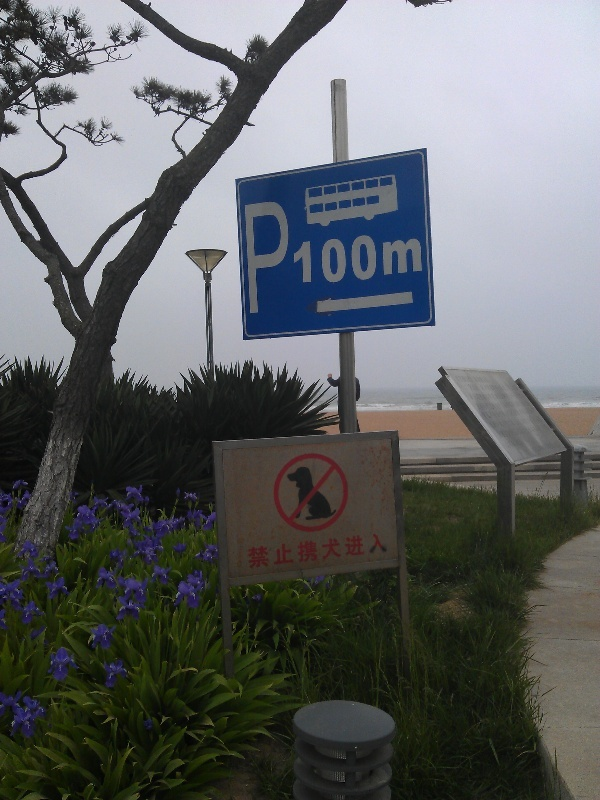text: (257, 198, 272, 315), (273, 198, 288, 315), (244, 198, 256, 315), (305, 231, 320, 288), (321, 231, 336, 288), (337, 231, 352, 288), (353, 231, 368, 288), (369, 231, 384, 288), (385, 231, 400, 288), (401, 231, 416, 288), (293, 231, 304, 288), (257, 532, 272, 571), (273, 532, 288, 571), (289, 532, 304, 571), (305, 532, 320, 571), (321, 532, 336, 571), (337, 532, 352, 571), (353, 532, 368, 571), (369, 532, 384, 571), (289, 198, 294, 315), (245, 532, 256, 571), (417, 231, 424, 288), (385, 532, 388, 571)
